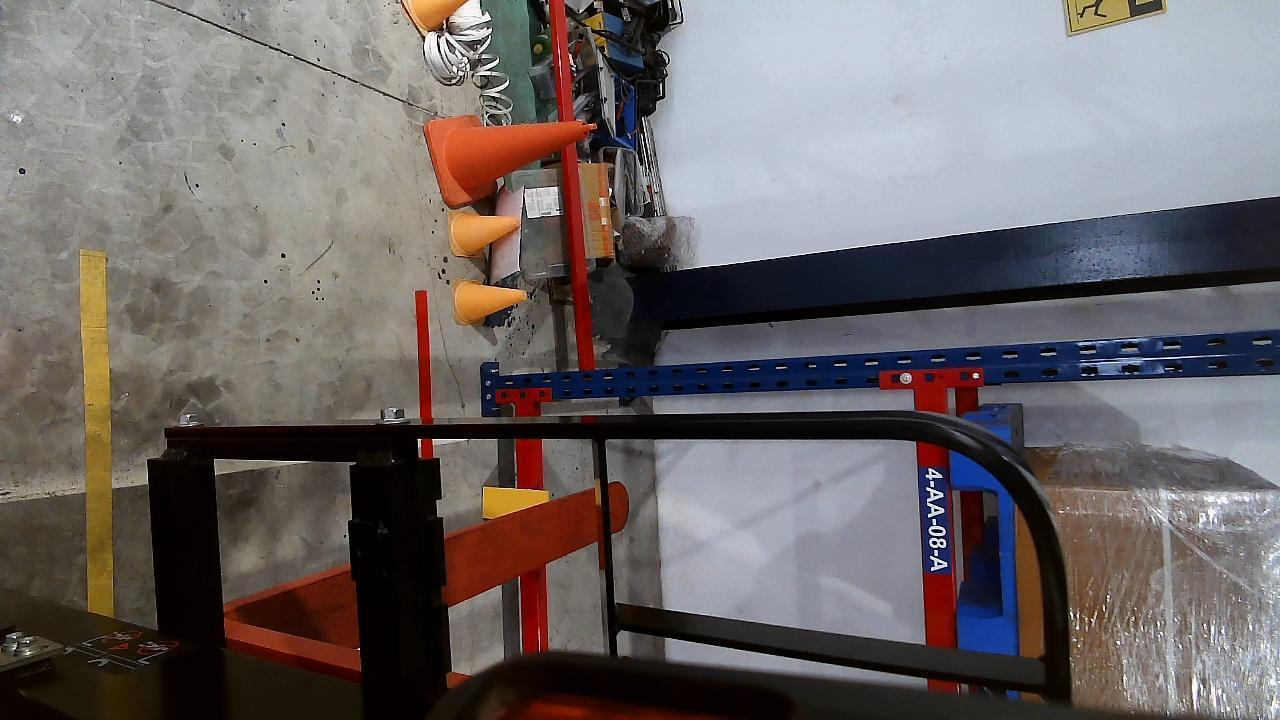red_line: (413, 289, 435, 421)
yellow_line: (79, 248, 114, 617)
